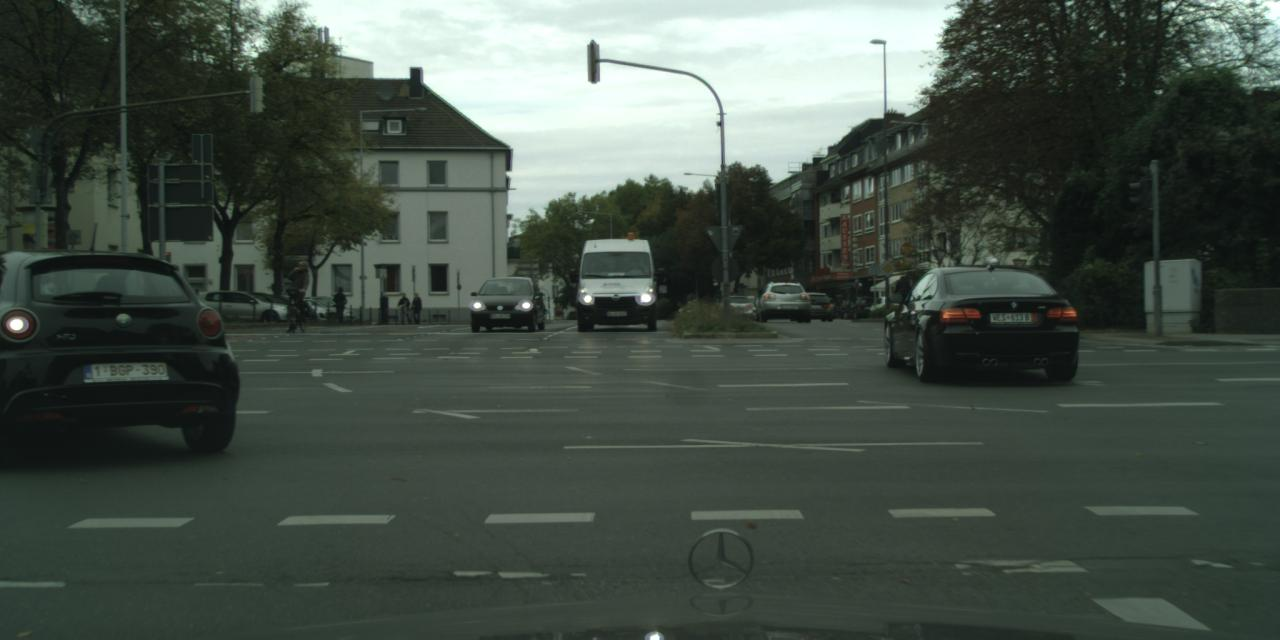ped: (288, 260, 313, 320), (896, 276, 914, 322), (332, 287, 347, 323), (410, 292, 422, 324), (398, 292, 410, 323)
